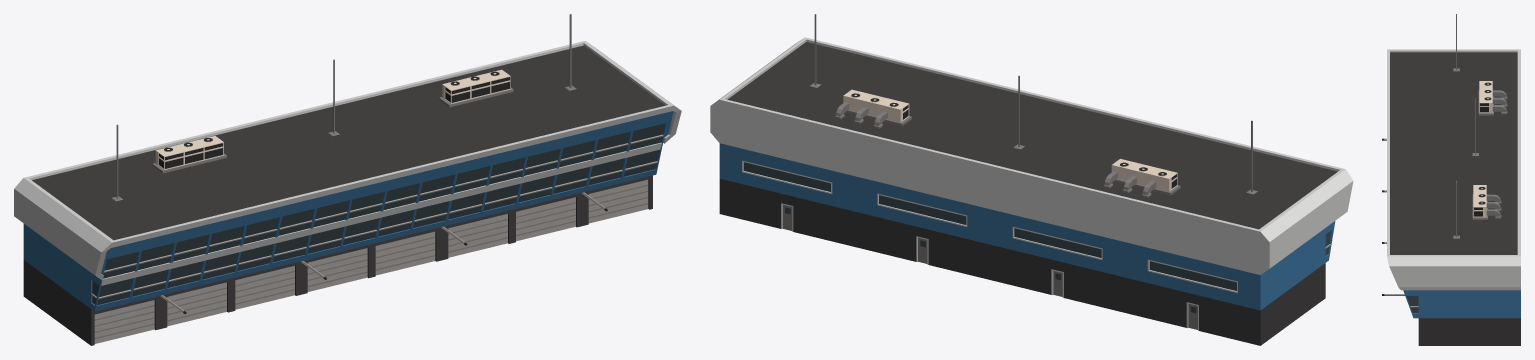
The model's file is racing_building-race-track-long.fbx.
The picture shows the model from 3 angles, left to right: view 1: azimuth 30°, elevation 25°; view 2: azimuth 150°, elevation 25°; view 3: azimuth 270°, elevation 25°; orthographic projection. The views are drawn at different scales.
Parts seen in each view (by area): view 1: racing_building_race_track_long; view 2: racing_building_race_track_long; view 3: racing_building_race_track_long.
Part boxes in pixels (x1,y1,x2,y2): racing_building_race_track_long: (14,14,681,345); racing_building_race_track_long: (710,14,1353,345); racing_building_race_track_long: (1382,14,1520,345).
Bounding box in the file's own units: 200 × 62.57 × 54.78.
